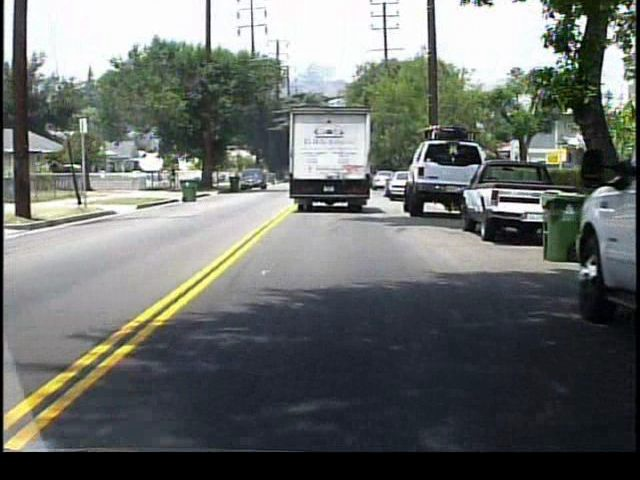person: (170, 166, 180, 191)
